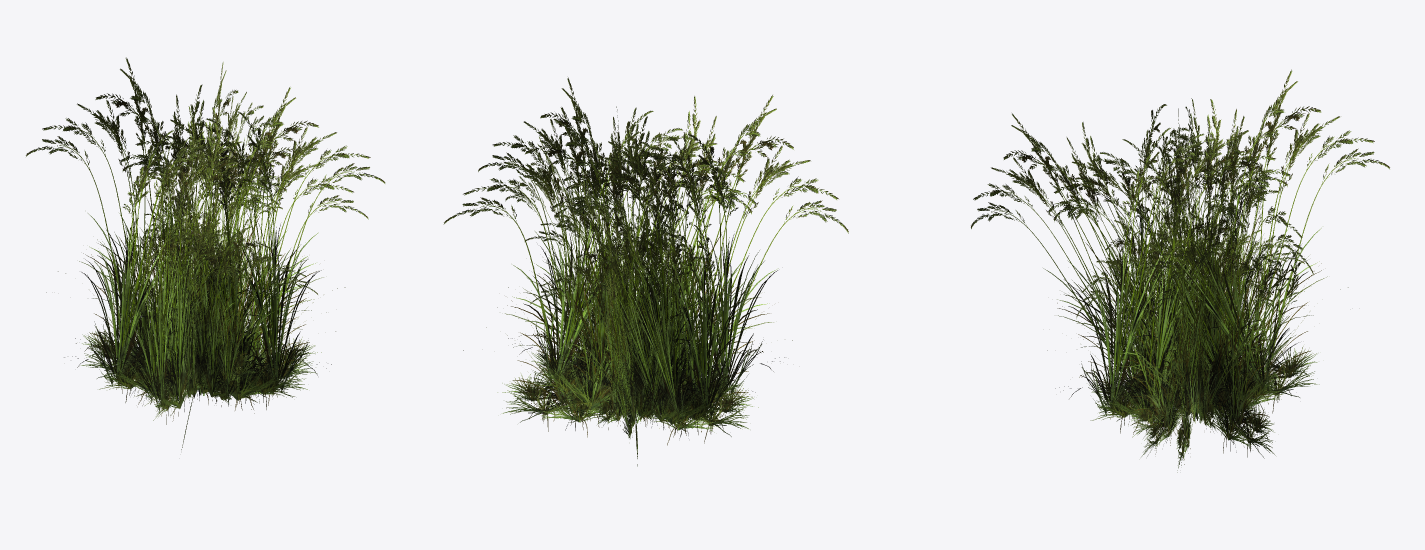
The model's file is Grass_12.fbx.
The picture shows the model from 3 angles, left to right: view 1: azimuth 30°, elevation 25°; view 2: azimuth 150°, elevation 25°; view 3: azimuth 270°, elevation 25°; orthographic projection. The views are drawn at different scales.
Parts seen in each view (by area): view 1: Grass_12; view 2: Grass_12; view 3: Grass_12.
Part boxes in pixels (left/top/right/bottom): Grass_12: left=26, top=57, right=385, bottom=449; Grass_12: left=443, top=77, right=848, bottom=466; Grass_12: left=971, top=69, right=1389, bottom=472.
Bounding box in the file's own units: 1228 × 1446 × 1498.
